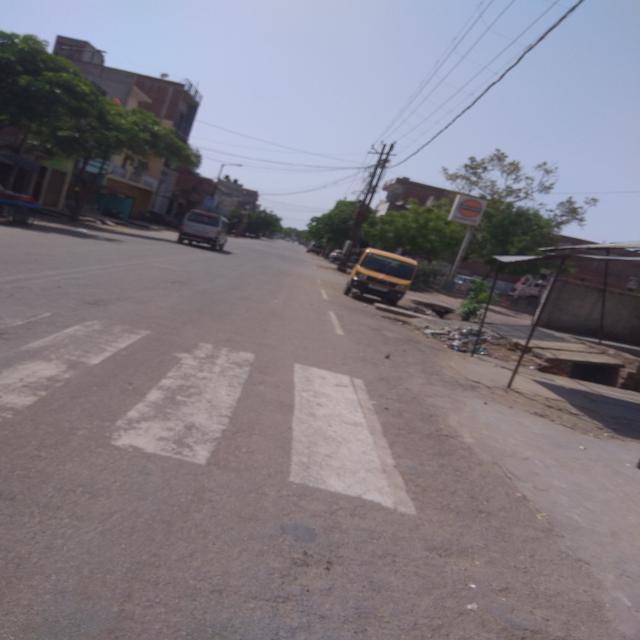Car: (178, 210, 228, 250)
Truck: (343, 249, 417, 305)
